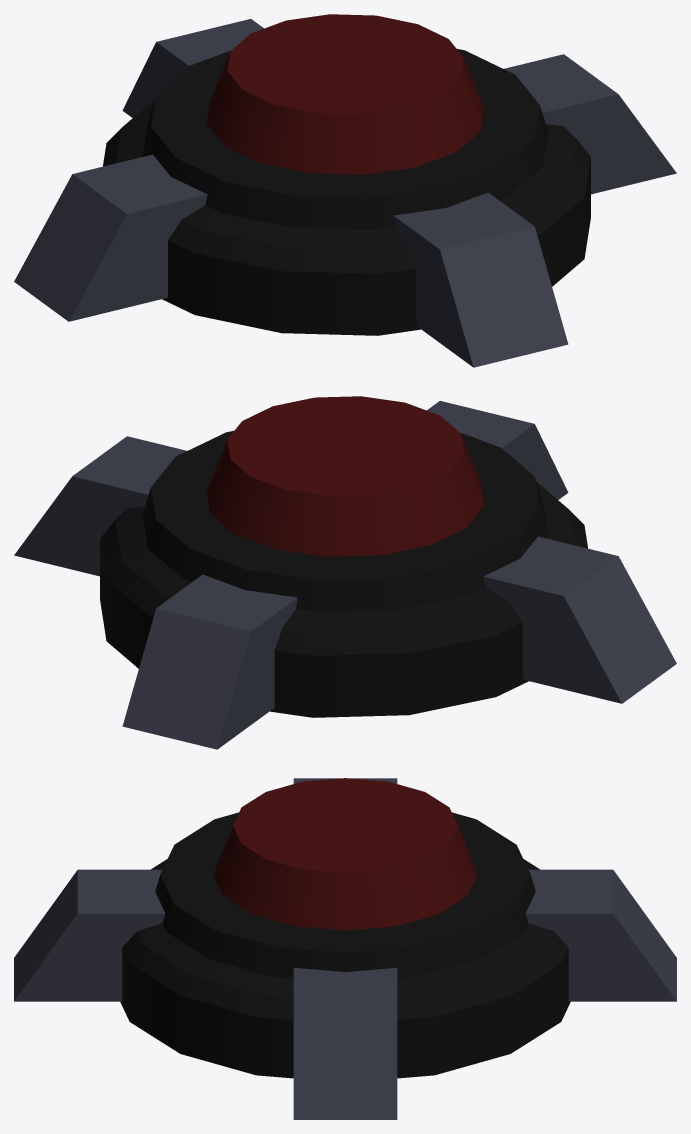
Rendered from Landmine.obj.
3 views of the same model, one above another, from view 1: azimuth 30°, elevation 25°; view 2: azimuth 150°, elevation 25°; view 3: azimuth 270°, elevation 25° (orthographic). The views are drawn at different scales.
Visible parts, largest first — view 1: Landmine_Cylinder.029; view 2: Landmine_Cylinder.029; view 3: Landmine_Cylinder.029.
Boxes of the visible parts, box(x1,y1,x2,y2) form: Landmine_Cylinder.029: box(14, 14, 676, 367); Landmine_Cylinder.029: box(14, 396, 676, 749); Landmine_Cylinder.029: box(14, 778, 676, 1119).
Bounding box in the file's own units: 1.11 × 0.2942 × 1.11.
